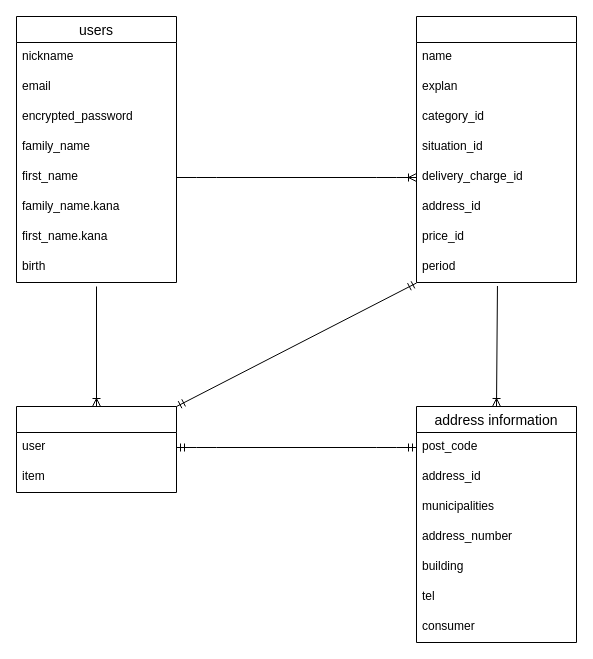
The diagram is 593 pixels wide and 659 high, and some of its shapes have lost their labels. Here are the shapes that lost their labels. From the top down, the box of each, then its label:
(416, 16, 576, 282): items
(16, 406, 176, 492): purchase record
